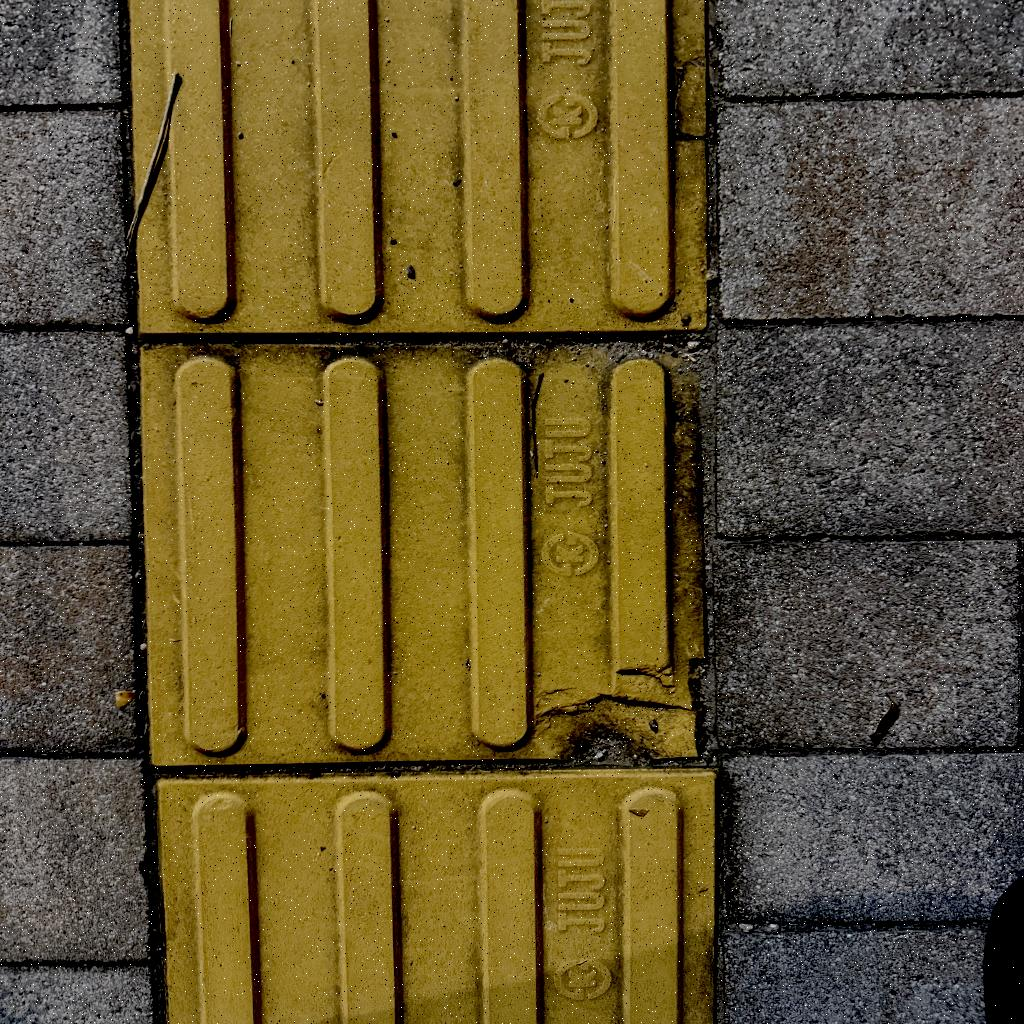Straight block broken: (146, 341, 700, 762)
